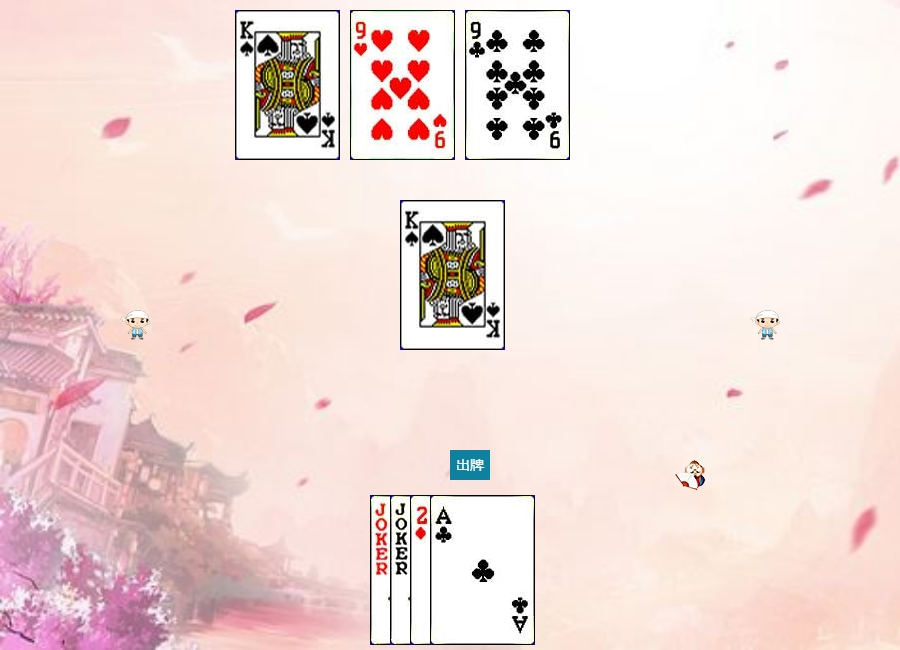13~4: (235, 10, 340, 160), (400, 200, 505, 350)
14~2: (430, 495, 535, 645)
15~1: (410, 495, 515, 645)
17~3: (390, 495, 495, 645)
18~4: (370, 495, 475, 645)
9~2: (465, 10, 570, 160)
9~3: (350, 10, 455, 160)
